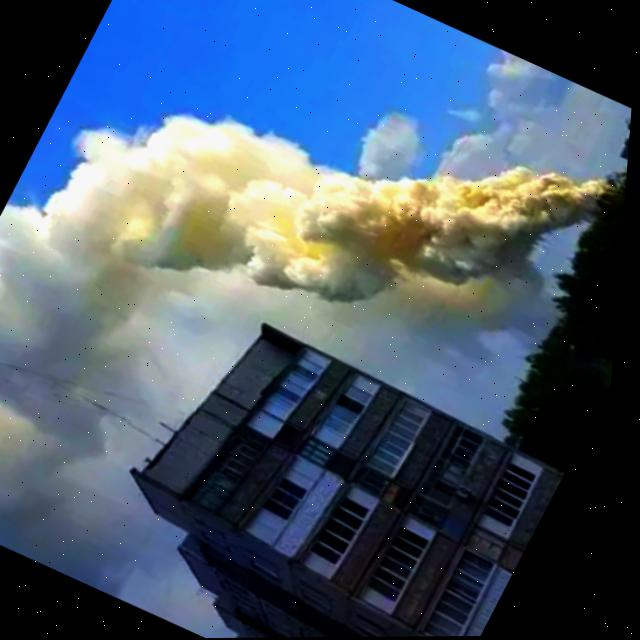Smoke: (0, 0, 613, 576)
